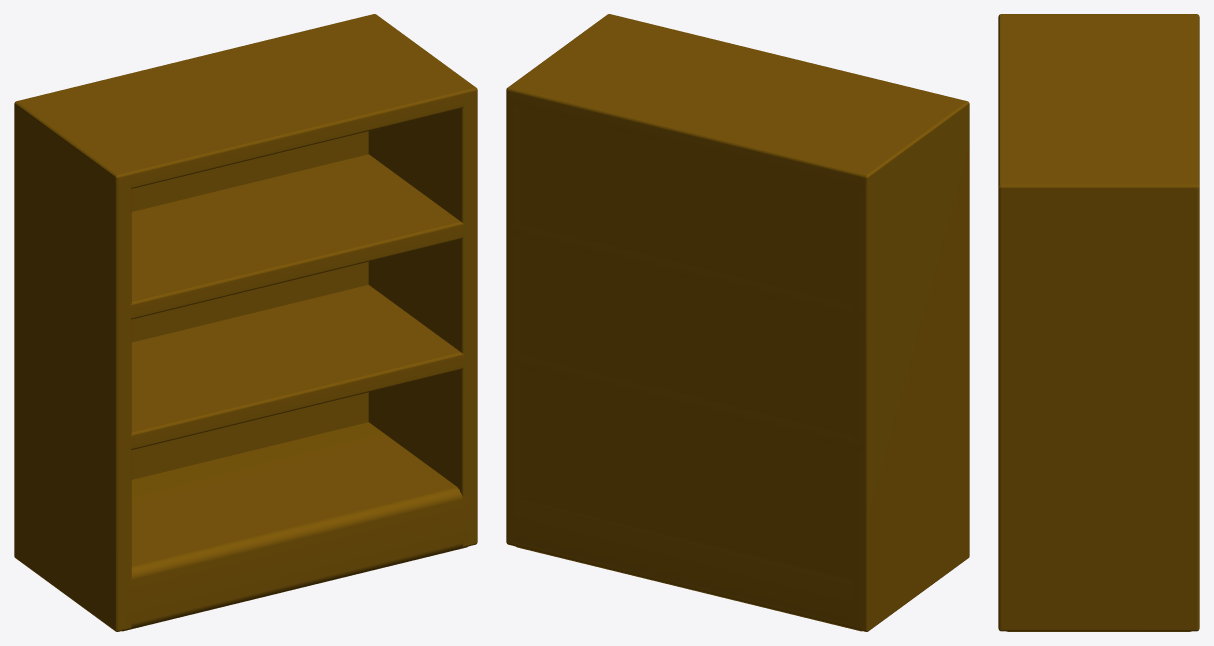
The model's file is shelf.fbx.
3 renders of one model, left to right at view 1: azimuth 30°, elevation 25°; view 2: azimuth 150°, elevation 25°; view 3: azimuth 270°, elevation 25°, orthographic. The views are drawn at different scales.
Visible parts, largest first — view 1: pasted__pasted__pCube1, pCube1, pasted__pCube1, pasted__pasted__pasted__pCube1, pasted__pasted__pCube9, pasted__pCube8, pasted__pCube7; view 2: pasted__pCube7, pasted__pasted__pCube1, pasted__pCube1, pCube1, pasted__pCube8, pasted__pasted__pCube9, pasted__pasted__pasted__pCube1; view 3: pasted__pCube8, pasted__pCube1.
Part boxes in pixels (x1=…): pasted__pasted__pCube1: x1=14, y1=101, x2=131, y2=631; pCube1: x1=121, y1=422, x2=469, y2=631; pasted__pCube1: x1=18, y1=14, x2=475, y2=189; pasted__pasted__pasted__pCube1: x1=120, y1=285, x2=465, y2=451; pasted__pasted__pCube9: x1=120, y1=154, x2=464, y2=320; pasted__pCube8: x1=368, y1=14, x2=477, y2=547; pasted__pCube7: x1=131, y1=131, x2=368, y2=479; pasted__pCube7: x1=519, y1=106, x2=853, y2=628; pasted__pasted__pCube1: x1=853, y1=101, x2=969, y2=631; pasted__pCube1: x1=508, y1=14, x2=965, y2=189; pCube1: x1=514, y1=498, x2=862, y2=631; pasted__pCube8: x1=506, y1=14, x2=609, y2=547; pasted__pasted__pCube9: x1=508, y1=222, x2=863, y2=320; pasted__pasted__pasted__pCube1: x1=508, y1=352, x2=863, y2=451; pasted__pCube8: x1=998, y1=184, x2=1199, y2=631; pasted__pCube1: x1=998, y1=14, x2=1199, y2=186.
Size of the model in its own units: 2.03 by 2.47 by 1.
